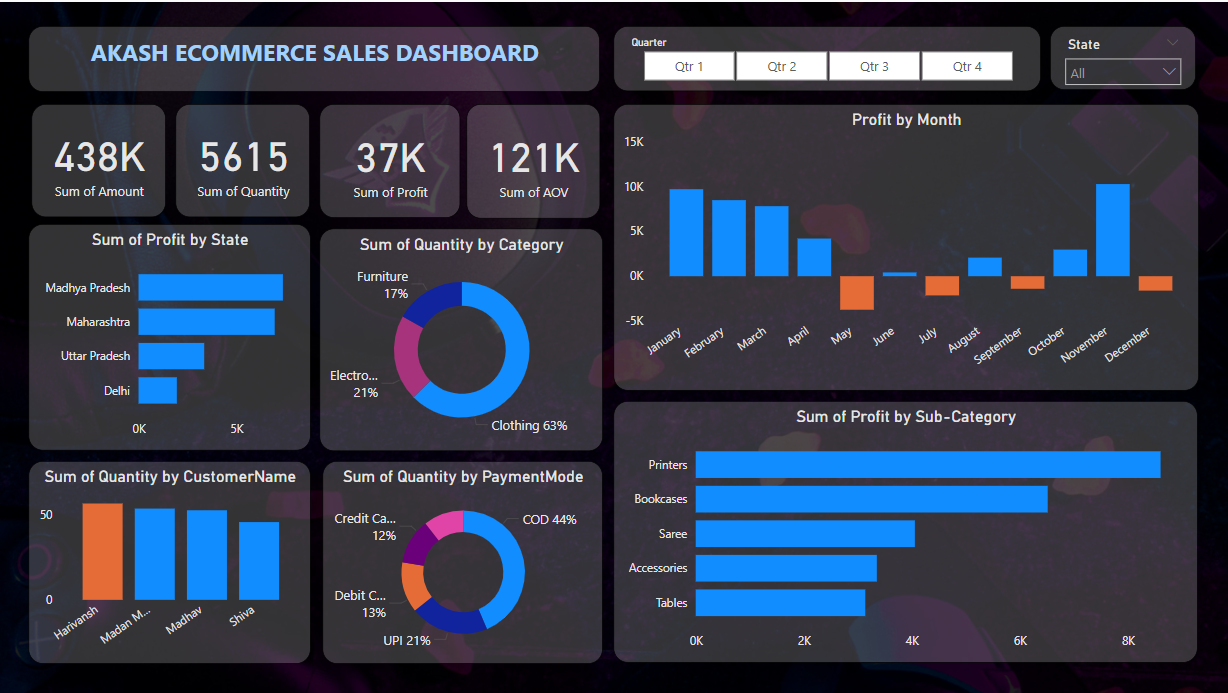

Layout of this report page (visuals, bound fields, positions):
{"tool":"powerbi","page":{"name":"Page 1","canvas":[1280,720],"ordinal":0},"visuals":[{"type":"textbox","box":[29.7,25,595.5,68.8],"z":0},{"type":"columnChart","title":"Profit by Month","fields":{"Category":["Orders.Order Date.Variation.Date Hierarchy.Month"],"Y":["Details.Profit"]},"box":[638.6,105.7,610,298.6],"z":1000},{"type":"barChart","fields":{"Category":["Details.Sub-Category"],"Y":["Details.Profit"]},"box":[638.6,415.7,608.6,272.9],"z":2000},{"type":"donutChart","fields":{"Category":["Details.Category"],"Y":["Details.Quantity"]},"box":[333,236,295,232],"z":3000},{"type":"donutChart","fields":{"Y":["Details.Quantity"],"Category":["Details.PaymentMode"]},"box":[336,479,292,211],"z":4000},{"type":"card","fields":{"Values":["Details.Amount"]},"box":[32.7,106.4,140,118.2],"z":5000},{"type":"card","fields":{"Values":["Details.Quantity"]},"box":[183.6,106.4,140,118.2],"z":6000},{"type":"card","fields":{"Values":["Details.Profit"]},"box":[332.2,106.7,146.7,118.9],"z":7000},{"type":"card","fields":{"Values":["Details.AOV"]},"box":[486.4,106.4,139.1,119.1],"z":8000},{"type":"barChart","fields":{"Category":["Orders.State"],"Y":["Details.Profit"]},"box":[30,232,294,236],"z":9000},{"type":"columnChart","fields":{"Category":["Orders.CustomerName"],"Y":["Details.Quantity"]},"box":[30,479,294,211],"z":10000},{"type":"slicer","fields":{"Values":["Orders.Order Date.Variation.Date Hierarchy.Quarter"]},"box":[639.1,24.5,445.5,68.2],"z":11000},{"type":"slicer","fields":{"Values":["Orders.State"]},"box":[1094.4,25.6,152.2,66.7],"z":12000}]}

Visuals, with their boxes in screenshot pixels (x1, y1, x2, y2), scaled from the page's 1280x720 canvas onto the 1228x693 screenshot:
textbox: region(28, 24, 600, 90)
"Profit by Month" columnChart: region(613, 102, 1198, 389)
barChart - Details.Sub-Category x Details.Profit: region(613, 400, 1197, 663)
donutChart - Details.Category x Details.Quantity: region(319, 227, 602, 450)
donutChart - Details.Quantity x Details.PaymentMode: region(322, 461, 602, 664)
card - Details.Amount: region(31, 102, 166, 216)
card - Details.Quantity: region(176, 102, 310, 216)
card - Details.Profit: region(319, 103, 459, 217)
card - Details.AOV: region(467, 102, 600, 217)
barChart - Orders.State x Details.Profit: region(29, 223, 311, 450)
columnChart - Orders.CustomerName x Details.Quantity: region(29, 461, 311, 664)
slicer - Orders.Order Date.Variation.Date Hierarchy.Quarter: region(613, 24, 1041, 89)
slicer - Orders.State: region(1050, 25, 1196, 89)
